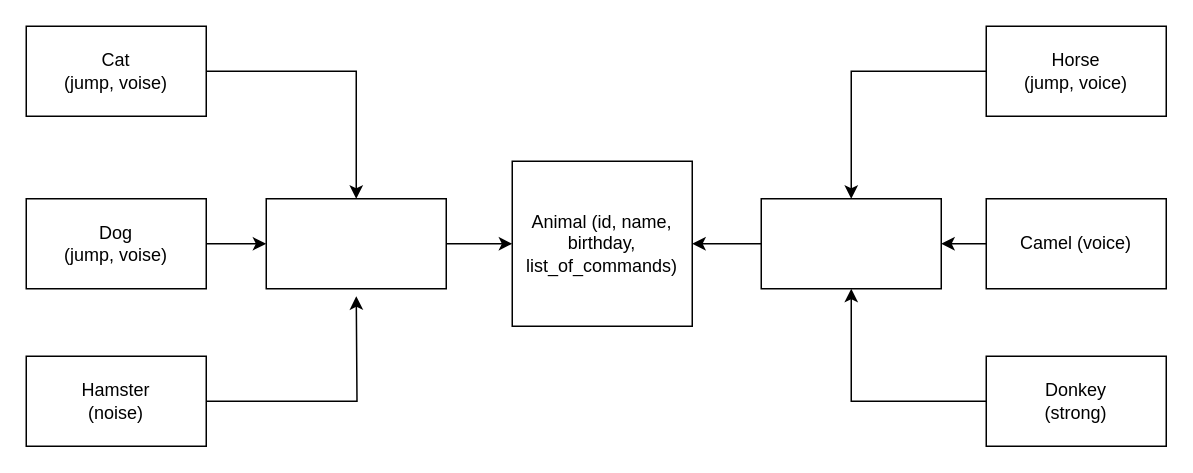
Some shapes in this 1193 by 473 pixel diagram are drawn without their labels. The shapes that lost their labels are listed below. From the top down, each one's box as (x1, y1, x2, y2) in pixels, then its label:
(265, 197, 446, 289): Pet_animal (count_of_commands)
(760, 197, 941, 289): Pack_animal (count_of_commands)
